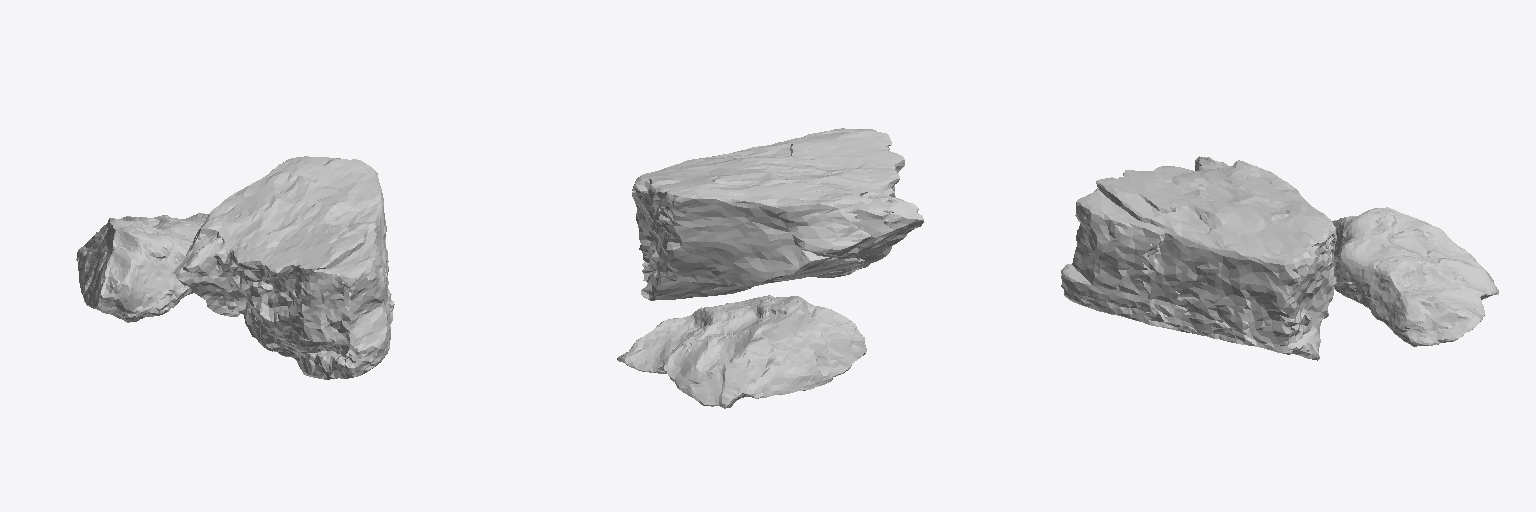
File: Stone_LOD0.obj
3 renders of one model, left to right at view 1: azimuth 30°, elevation 25°; view 2: azimuth 150°, elevation 25°; view 3: azimuth 270°, elevation 25°, orthographic.
Parts seen in each view (by area): view 1: rock_moss_set_02_rock13_moss_rock_14.001, rock_moss_set_02_rock09_moss_rock_10.001; view 2: rock_moss_set_02_rock13_moss_rock_14.001, rock_moss_set_02_rock09_moss_rock_10.001; view 3: rock_moss_set_02_rock13_moss_rock_14.001, rock_moss_set_02_rock09_moss_rock_10.001.
Boxes of the visible parts, box(x1,y1,x2,y2) form: rock_moss_set_02_rock13_moss_rock_14.001: box(175, 156, 394, 379); rock_moss_set_02_rock09_moss_rock_10.001: box(76, 213, 208, 322); rock_moss_set_02_rock13_moss_rock_14.001: box(632, 128, 923, 300); rock_moss_set_02_rock09_moss_rock_10.001: box(617, 295, 866, 408); rock_moss_set_02_rock13_moss_rock_14.001: box(1061, 156, 1336, 360); rock_moss_set_02_rock09_moss_rock_10.001: box(1332, 207, 1498, 346).
Bounding box in the file's own units: 0.5424 × 0.2673 × 0.7982.